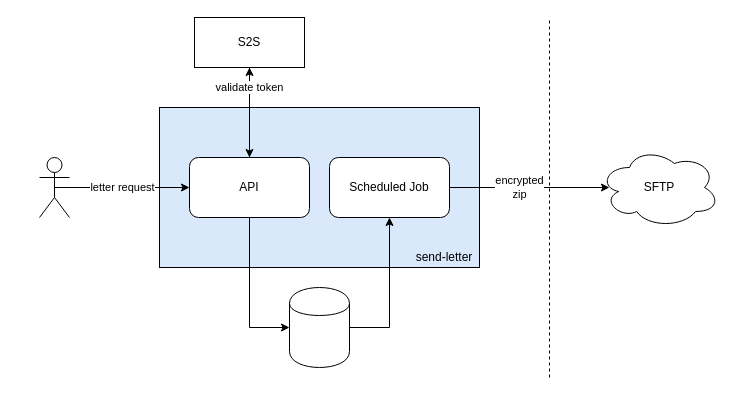
Image size: 737x396. Some labels were removed from this diagram. Here are the shapes that lost their labels. From the top down, the box of each, then its label:
(38, 156, 70, 218): Client Service
(288, 286, 350, 368): DB
